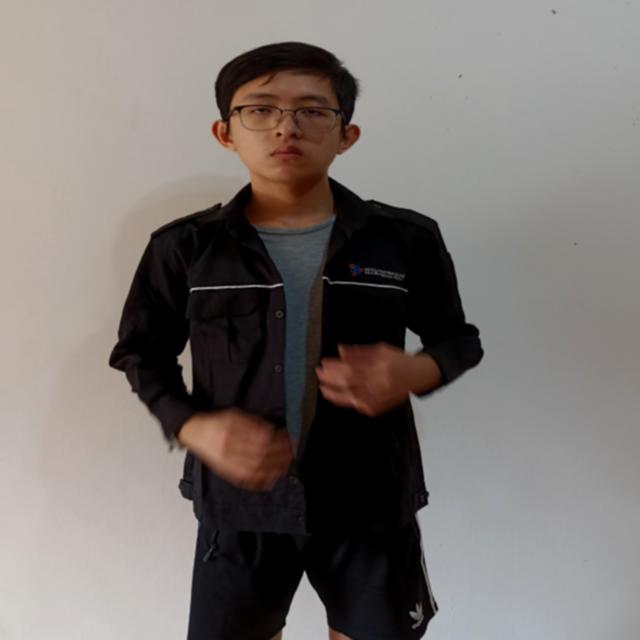person_with_labcoat: (111, 43, 482, 640)
